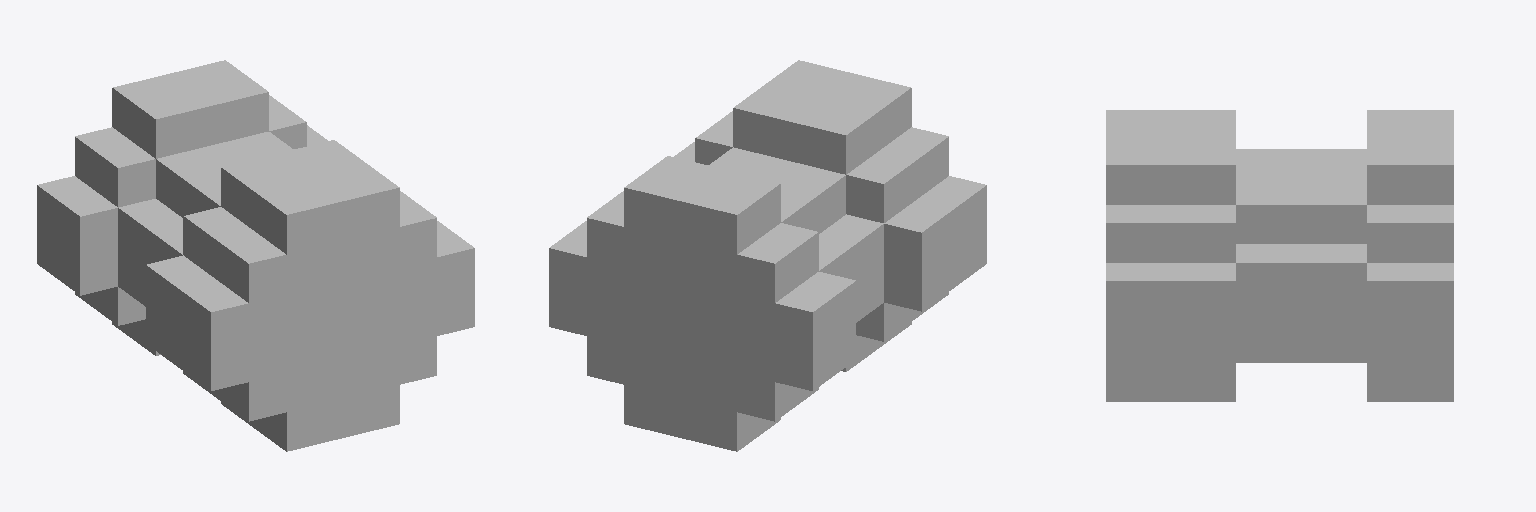
File: Lazer Gun.obj
3 views of the same model, side by side, from view 1: azimuth 30°, elevation 25°; view 2: azimuth 150°, elevation 25°; view 3: azimuth 270°, elevation 25° (orthographic).
Parts seen in each view (by area): view 1: object 1; view 2: object 1; view 3: object 1.
Boxes of the visible parts, box(x1,y1,x2,y2) form: object 1: box(37, 60, 474, 451); object 1: box(549, 60, 986, 451); object 1: box(1106, 110, 1453, 401).
Size of the model in its own units: 0.7 by 0.6 by 0.8.